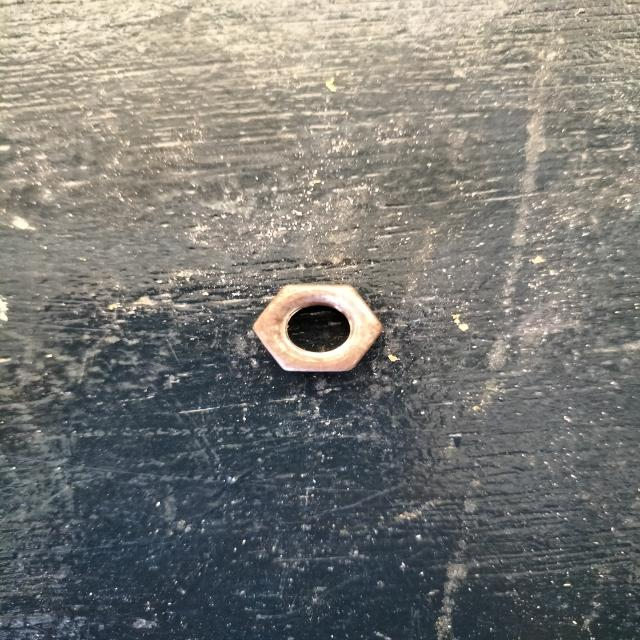nuts: (251, 283, 383, 373)
